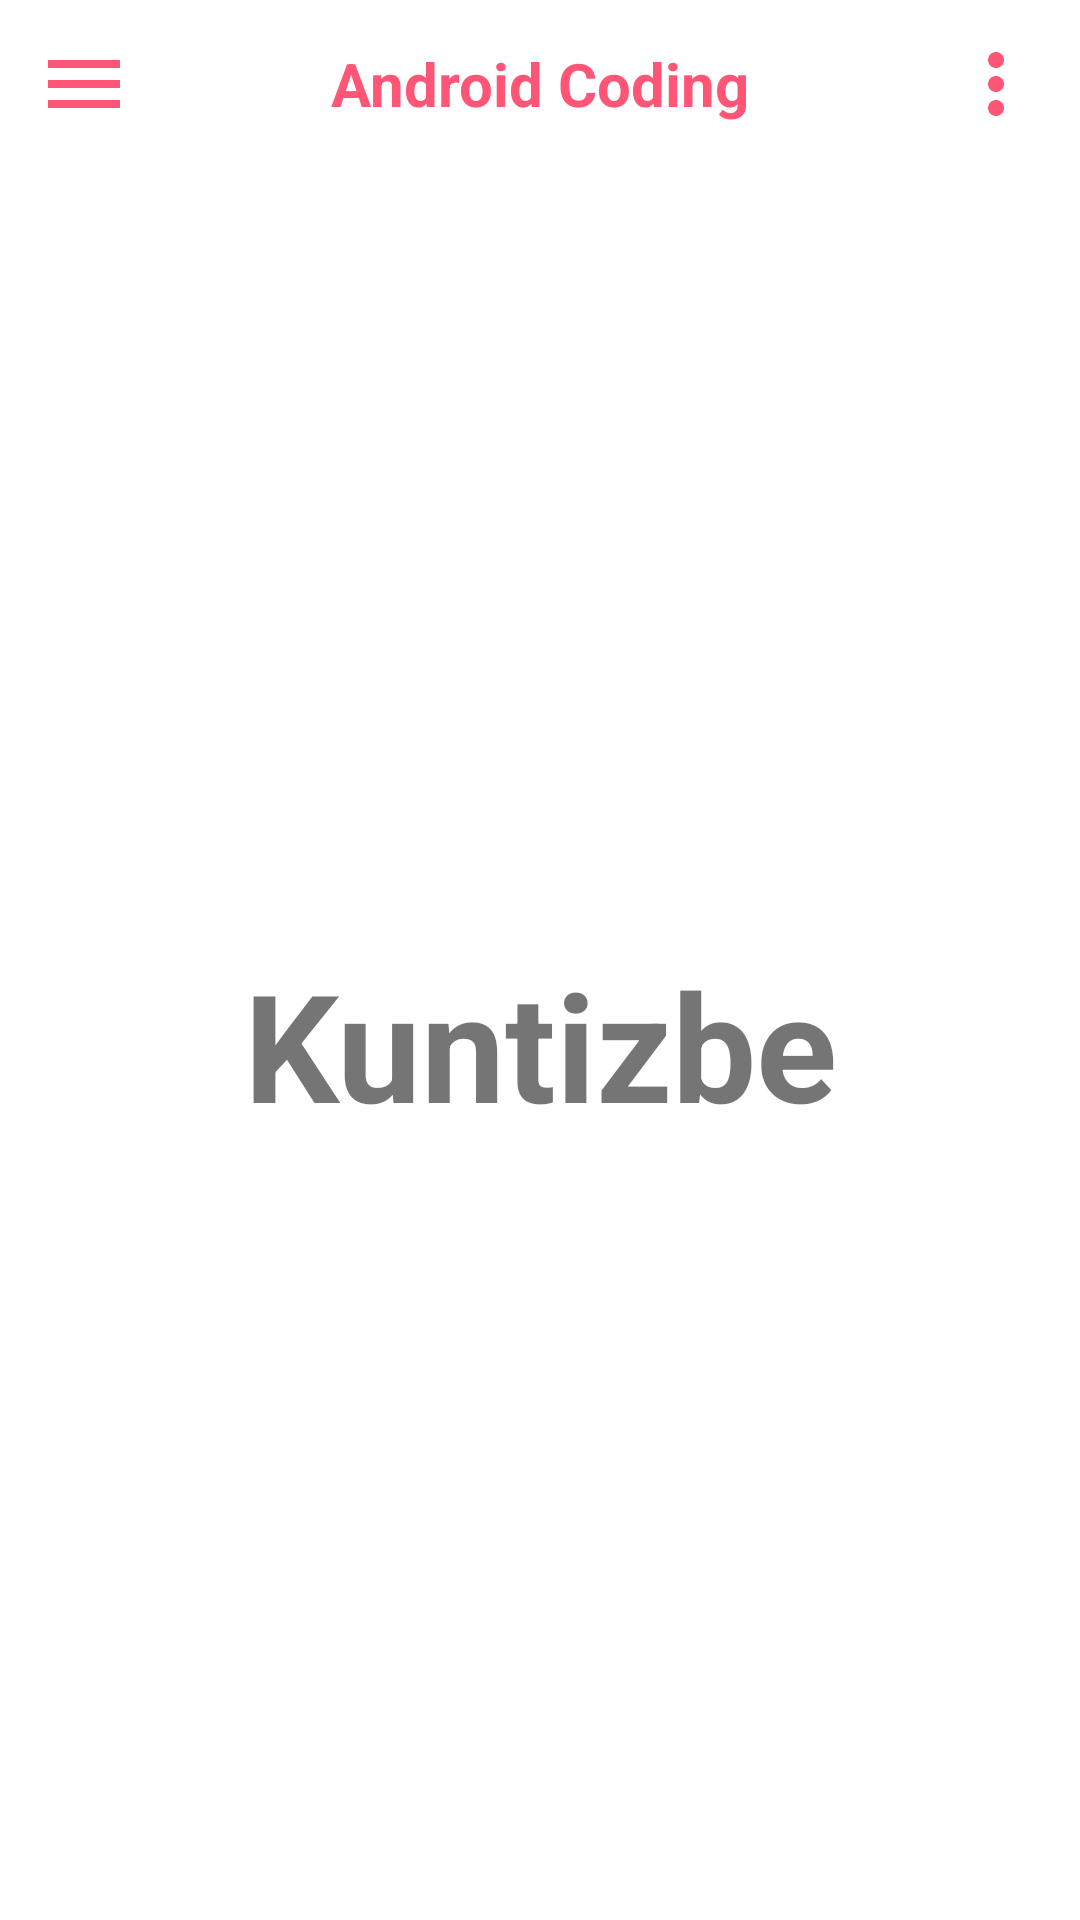

Icons on this 1080px x 1920px Android screen, each with the point to tap as (x=x, y=y):
menu: (x=84, y=84)
more vert: (x=996, y=84)
